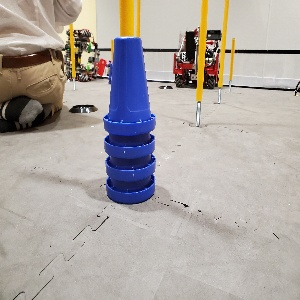Blue_4: (102, 34, 156, 205)
